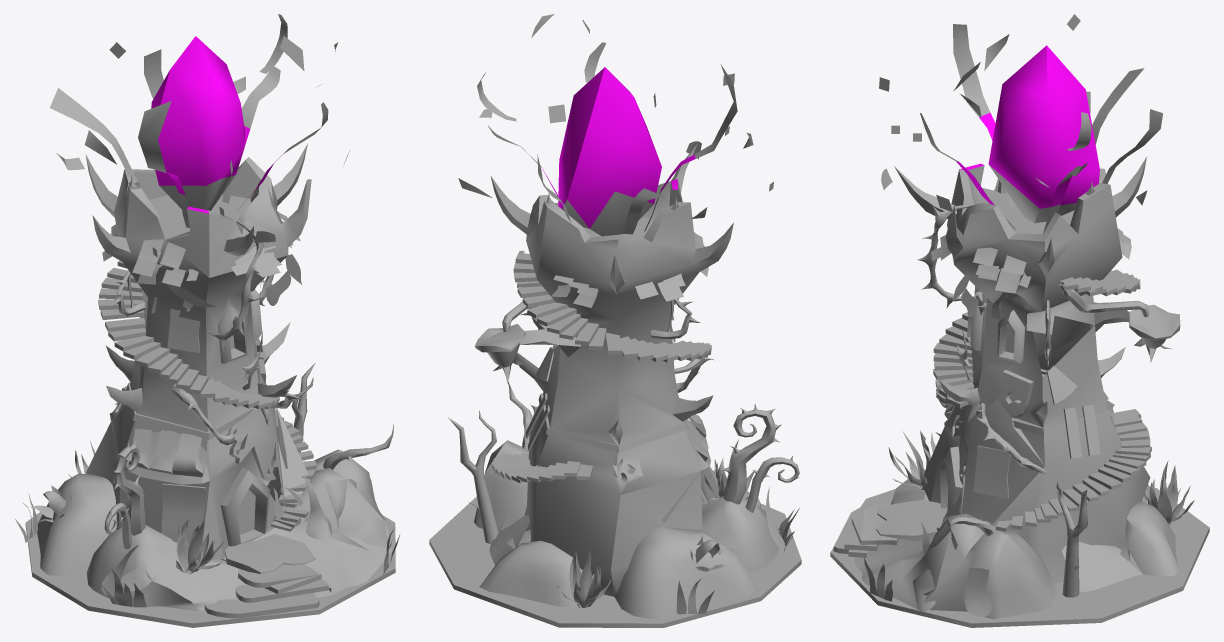
File: LP_SpawnerTower.fbx
The picture shows the model from 3 angles, left to right: view 1: azimuth 30°, elevation 25°; view 2: azimuth 150°, elevation 25°; view 3: azimuth 270°, elevation 25°; orthographic projection.
Parts seen in each view (by area): view 1: LP_SpawnerTower; view 2: LP_SpawnerTower; view 3: LP_SpawnerTower.
Boxes of the visible parts, left/top/right/bottom form: LP_SpawnerTower: left=15, top=14, right=399, bottom=627; LP_SpawnerTower: left=429, top=14, right=801, bottom=627; LP_SpawnerTower: left=830, top=14, right=1209, bottom=627.
Bounding box in the file's own units: 526 × 800 × 534.
